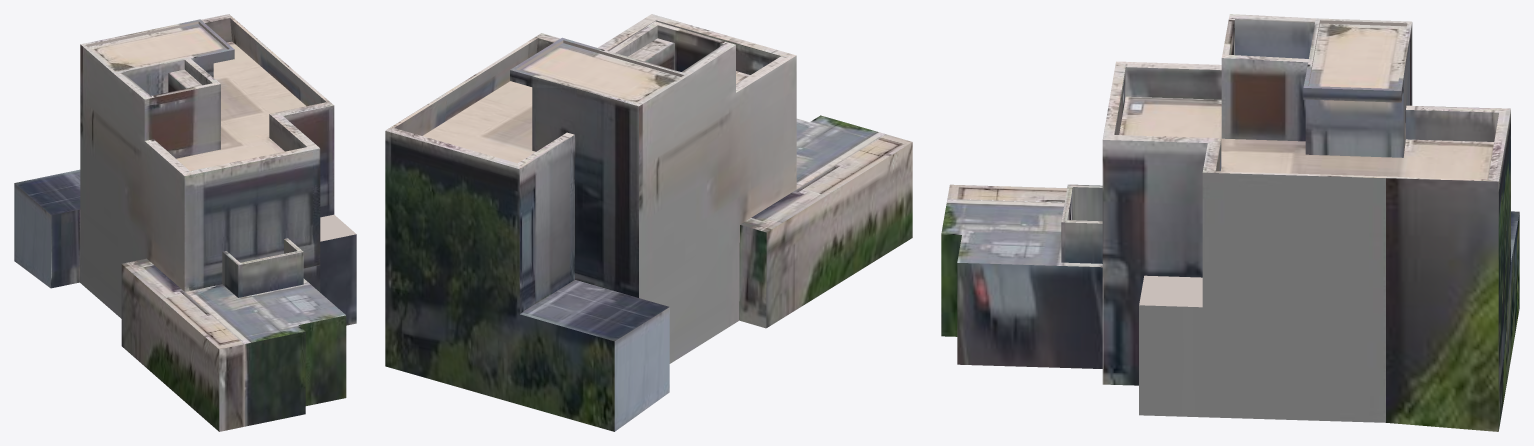
The picture shows the model from 3 angles, left to right: view 1: azimuth 30°, elevation 25°; view 2: azimuth 150°, elevation 25°; view 3: azimuth 270°, elevation 25°; orthographic projection. The views are drawn at different scales.
Visible parts, largest first — view 1: B283344038401062A0; view 2: B283344038401062A0; view 3: B283344038401062A0.
Boxes of the visible parts, bbox=[...] form: B283344038401062A0: bbox=[14, 14, 356, 431]; B283344038401062A0: bbox=[385, 14, 912, 431]; B283344038401062A0: bbox=[941, 14, 1519, 431].
Size of the model in its own units: 11.08 by 11.14 by 19.37.
1 material, 1 textured.
